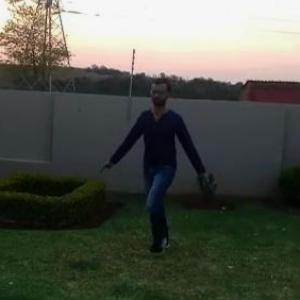land: (104, 70, 229, 279)
